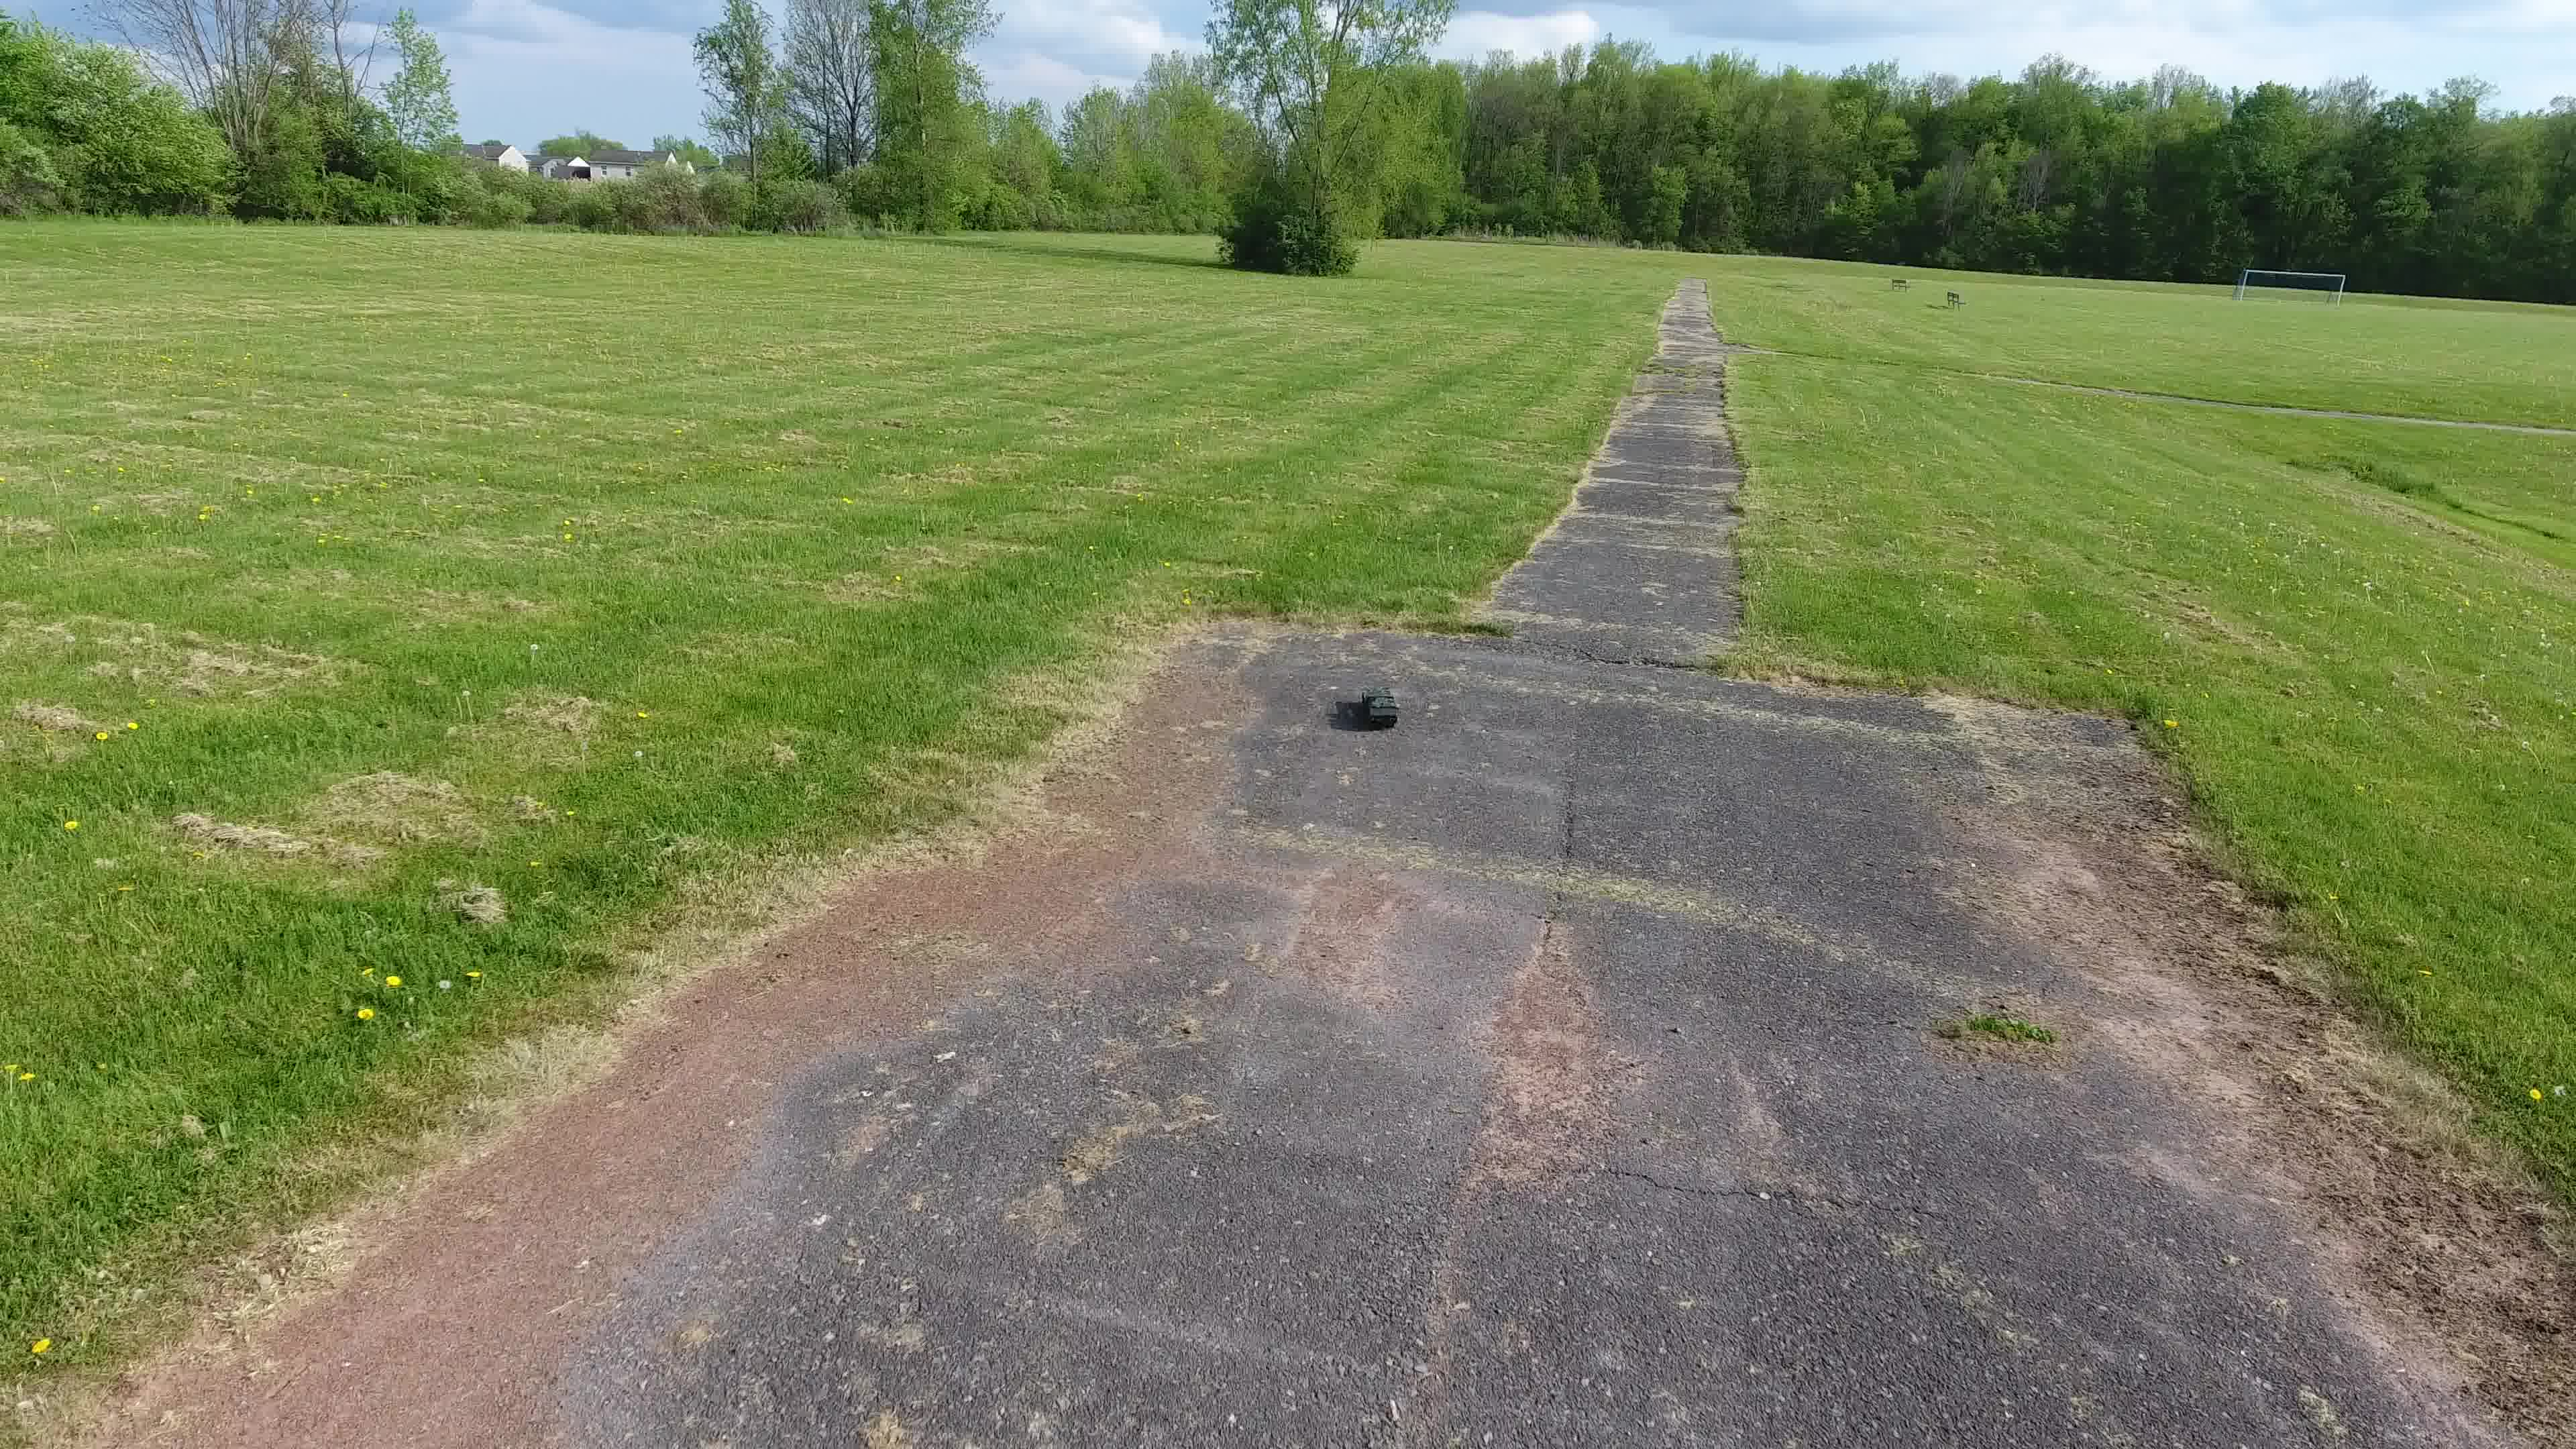transporter9_camo: (1359, 685, 1403, 731)
